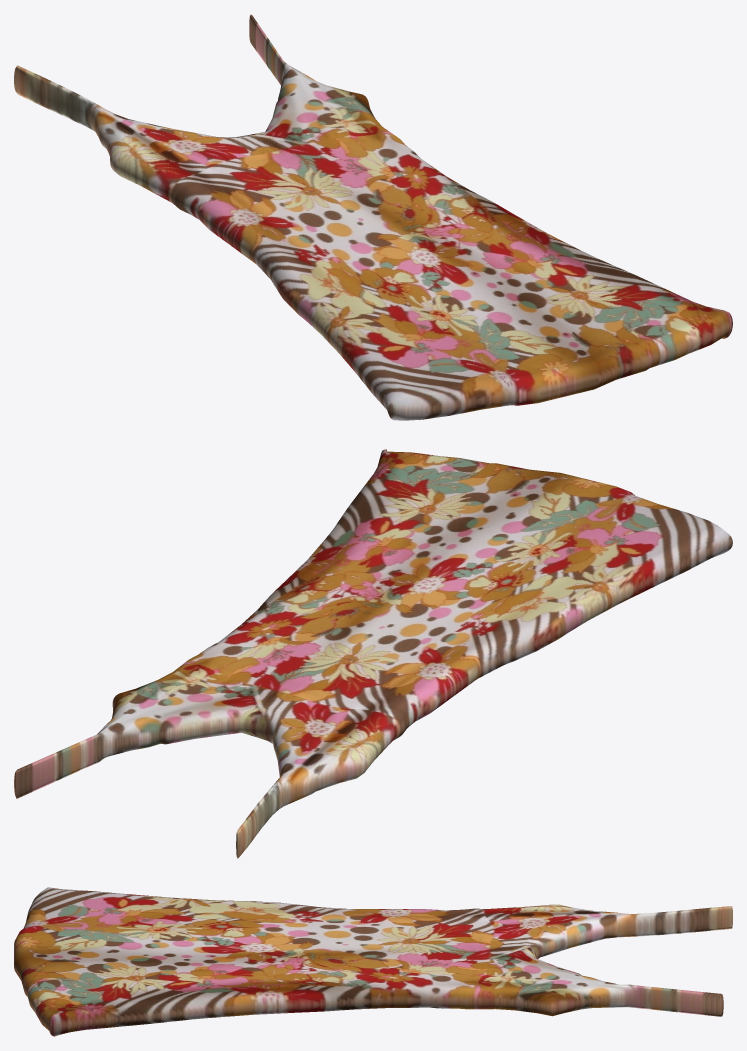
Rendered from option1.obj.
The picture shows the model from 3 angles, top to bottom: view 1: azimuth 30°, elevation 25°; view 2: azimuth 150°, elevation 25°; view 3: azimuth 270°, elevation 25°; orthographic projection. The views are drawn at different scales.
Bounding box in the file's own units: 38.34 × 3 × 86.42.
Materials: 1 (1 with a texture image).
